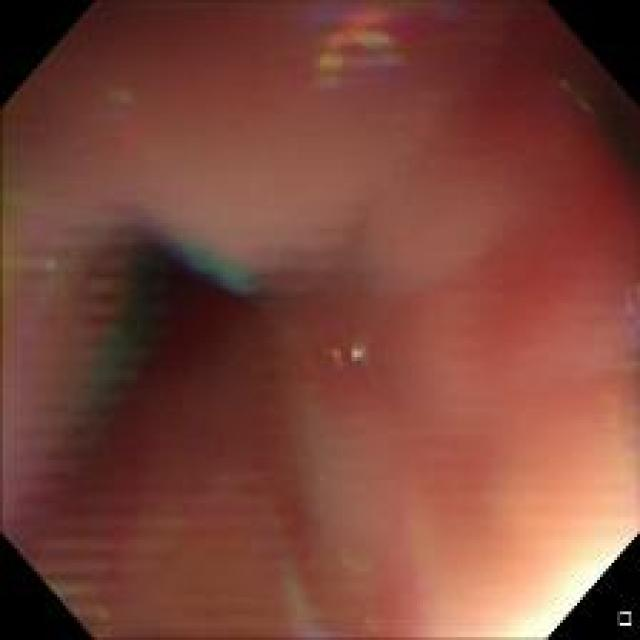blur: (4, 8, 634, 635)
color misalignment: (305, 2, 446, 96), (94, 268, 152, 400), (98, 78, 168, 178), (169, 234, 261, 300), (320, 325, 384, 375)
contrast: (80, 226, 239, 384)
saturation: (515, 562, 615, 631)
